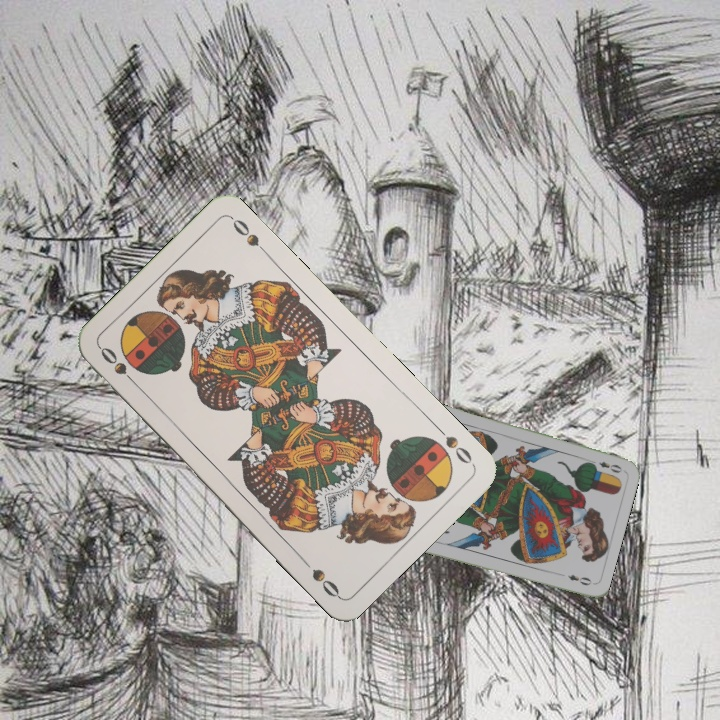EO: (585, 456, 625, 475)
SO: (96, 342, 142, 390), (431, 421, 476, 468)
